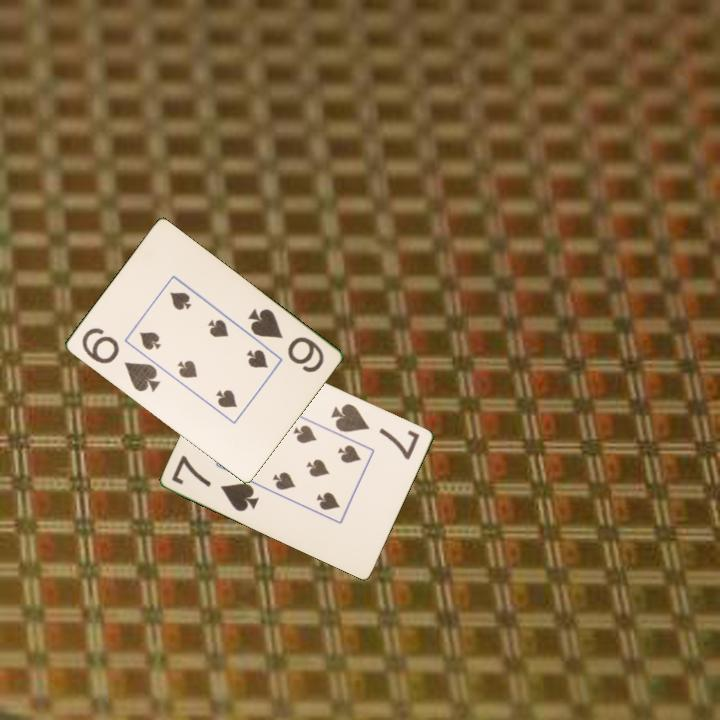6s: (78, 324, 163, 395), (244, 305, 327, 376)
7s: (168, 451, 262, 515), (328, 400, 423, 463)
